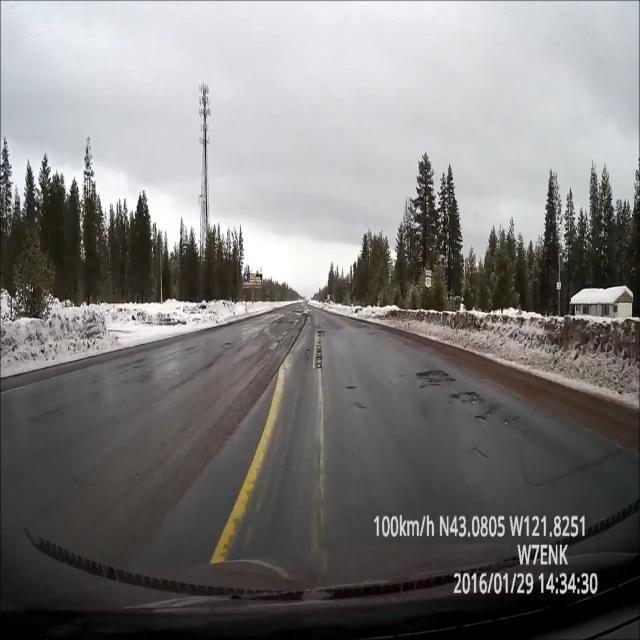pothole: (420, 359, 488, 414), (314, 326, 327, 378)
